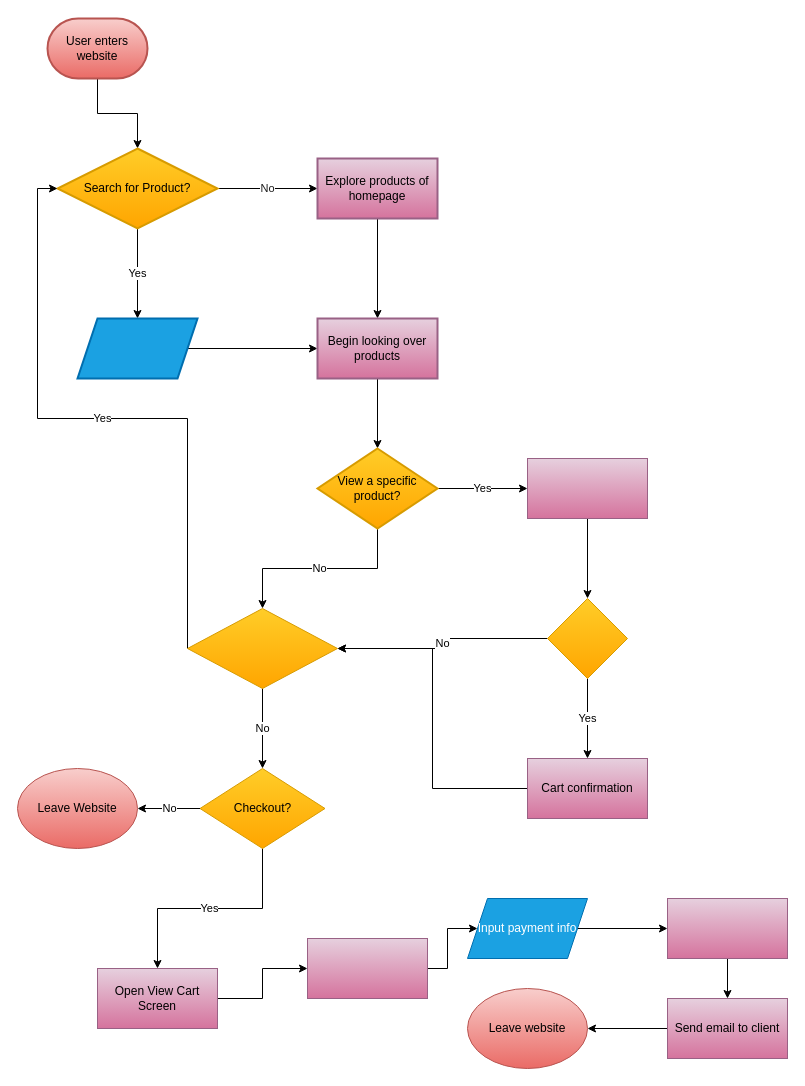
Image size: 805x1086. Some labels were removed from this diagram. The shapes that lost their labels are listed below. From the top down, each one's centre as x and y in pixels, then its label:
At point (137, 348): "Provide input into website".
At point (587, 488): "Open product webpage".
At point (262, 648): "Continue Shopping?".
At point (587, 638): "Add to cart?".
At point (727, 928): "Display order confirmation page".
At point (367, 968): "Go to View Payment screen".
